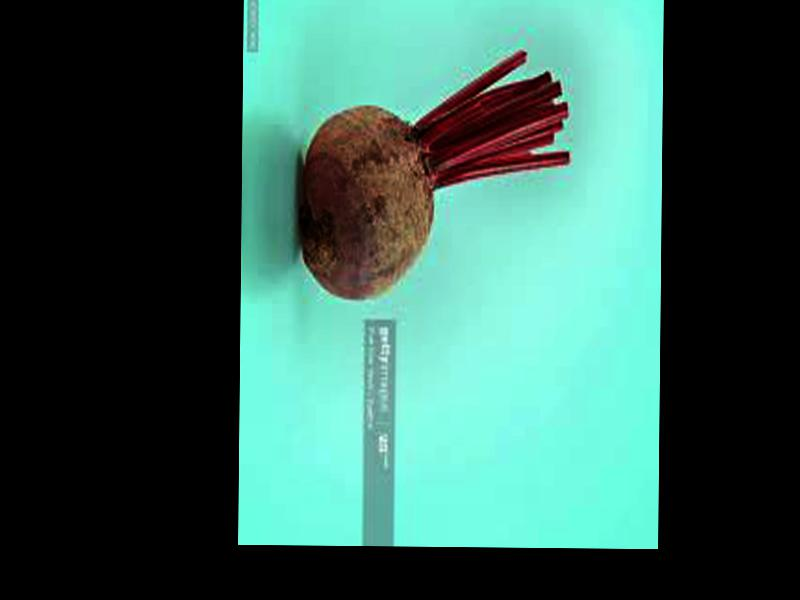Beet: (298, 50, 567, 302)
